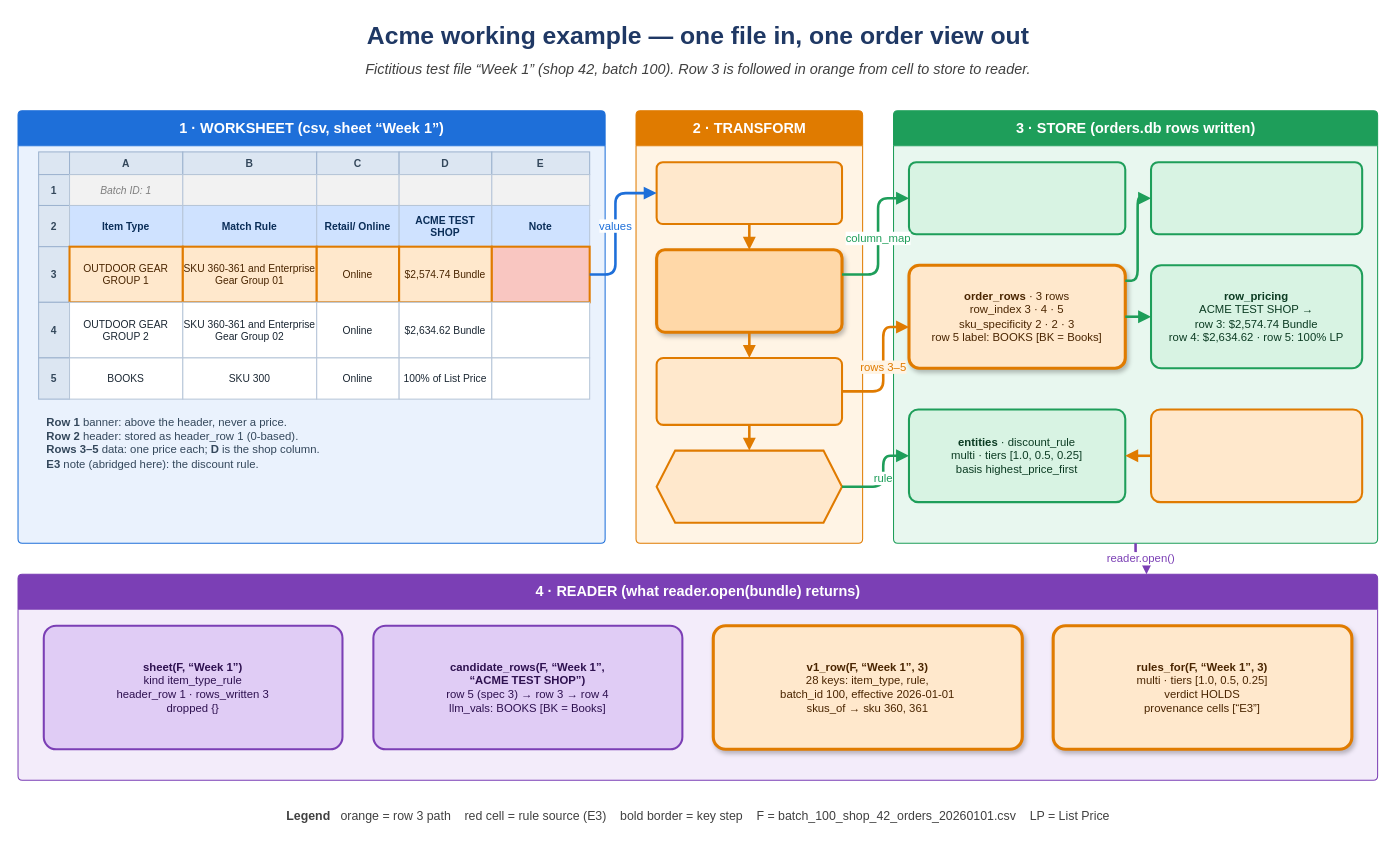
The diagram is 1396 pixels wide and 849 high, and some of its shapes have lost their labels. The centre of each missing label's shape, as x and y in pixels:
"iter_layout_rows rows 3–5 → row records + aliases" goes at [749,390].
"links row …:Week 1:3 → rule governed_by · HOLDS" goes at [1256,455].
"Multiple items in one order: 100/50/25%" goes at [540,274].
"read_rows csv · values only" goes at [749,193].
"row_skus row 3: sku 360, 361 row 5: sku 300" goes at [1256,198].
"rule_scope linker discount parser → governed_by" goes at [749,486].
"Sheet Layout (legacy) A item_type · B rule C channel · D shop · E note" goes at [749,292].
"sheets “Week 1” · header_row 1 shops {ACME TEST SHOP: 3}" goes at [1016,198].
